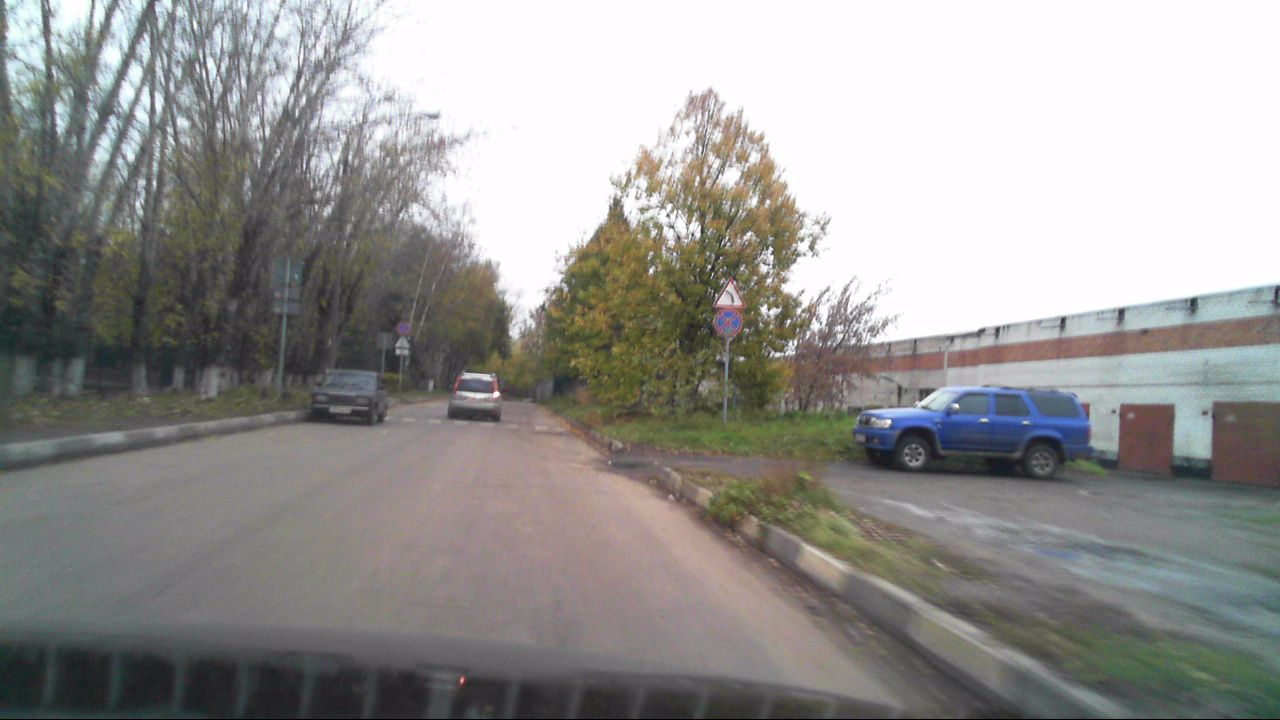No Parking: (713, 309, 743, 336)
